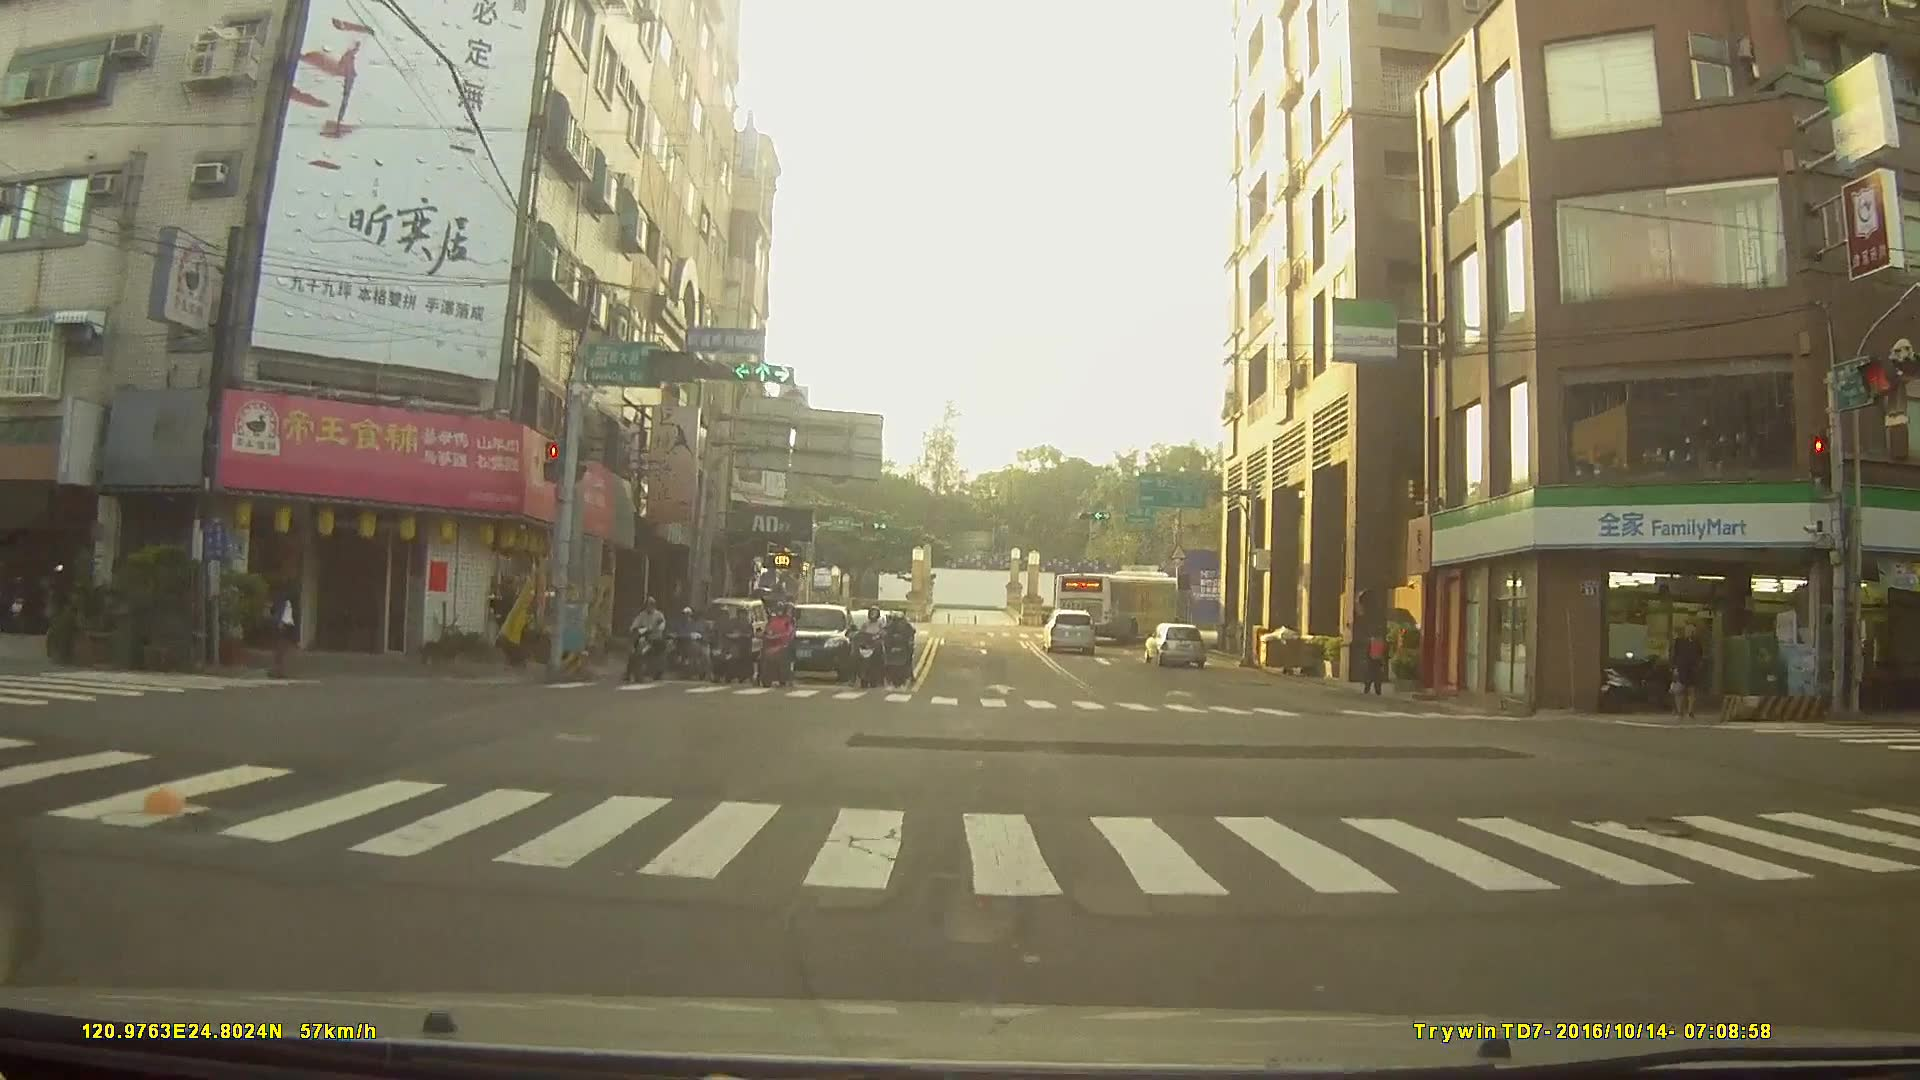pedestrian: (264, 582, 305, 680), (1668, 618, 1707, 724), (1362, 627, 1393, 697)
rider: (755, 594, 800, 690), (630, 597, 670, 689), (881, 606, 920, 687), (857, 602, 894, 685), (719, 601, 754, 680), (672, 600, 708, 673)
vehicle: (1051, 567, 1192, 639), (769, 600, 857, 677), (1140, 619, 1208, 666), (1042, 606, 1098, 654)
